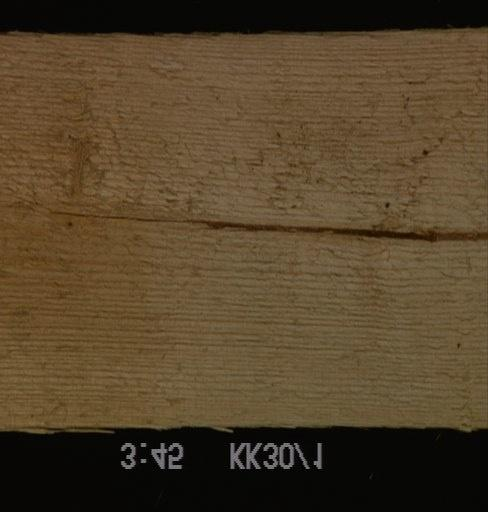split: (46, 210, 200, 227)
